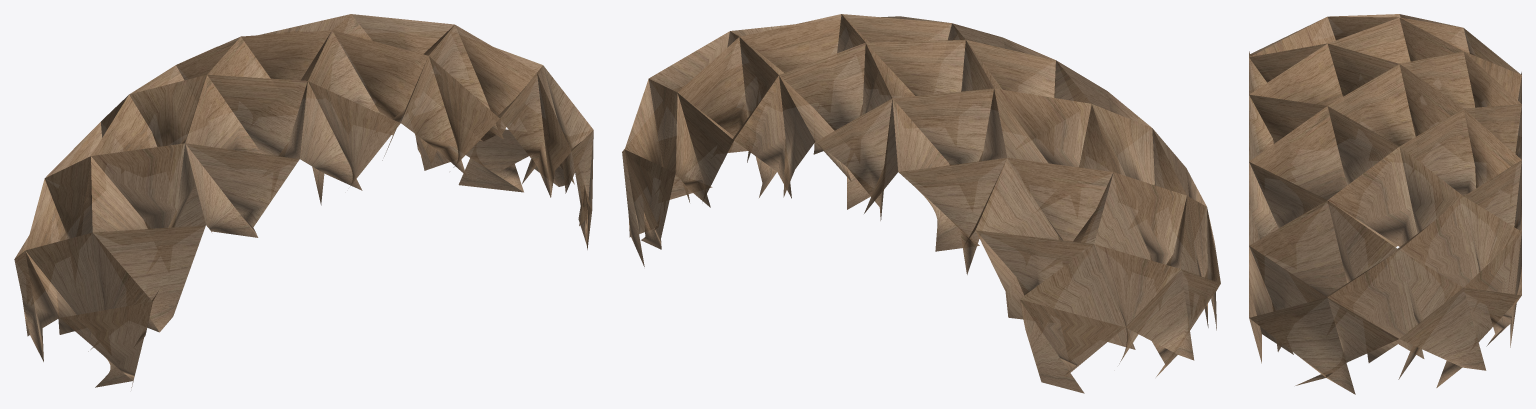
3 views of the same model, side by side, from view 1: azimuth 30°, elevation 25°; view 2: azimuth 150°, elevation 25°; view 3: azimuth 270°, elevation 25° (orthographic). The views are drawn at different scales.
Visible parts, largest first — view 1: [0]; view 2: [0]; view 3: [0].
Boxes of the visible parts, x1=… form: [0]: x1=14, y1=14, x2=593, y2=387; [0]: x1=622, y1=14, x2=1220, y2=393; [0]: x1=1249, y1=14, x2=1521, y2=394.
Bounding box in the file's own units: 4.53 × 1.97 × 1.99.
Materials: 1 (1 with a texture image).
